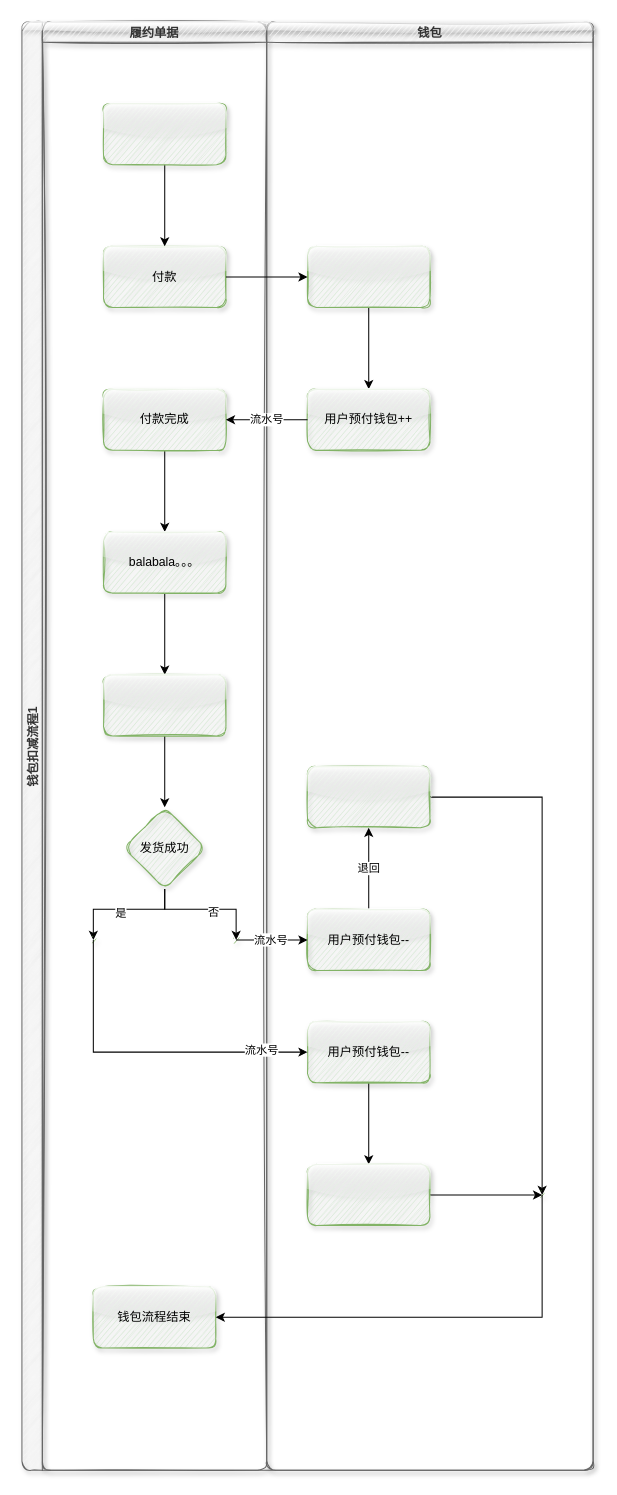
This 617x1495 diagram has some shape labels left out. Here are the shapes that lost their labels. From the top down, the centre of each, then its label:
At point (165, 135): "创建订单".
At point (369, 278): "用户钱包扣减".
At point (165, 706): "库存验证发货等".
At point (369, 798): "用户钱包++".
At point (369, 1196): "业务钱包++".
